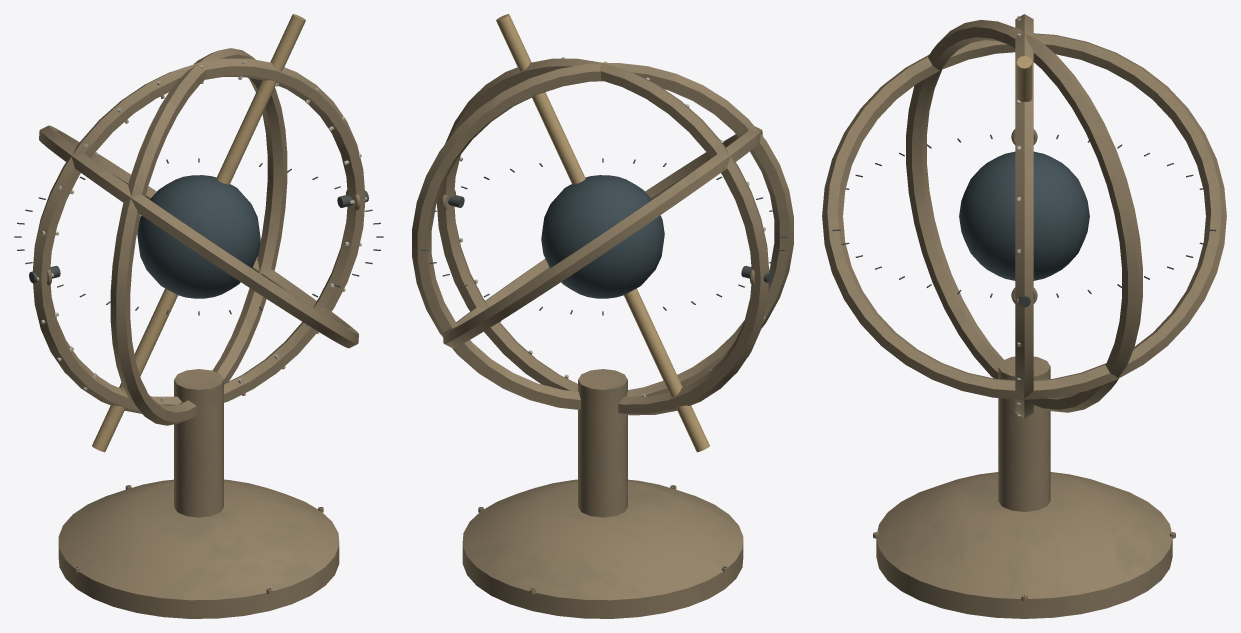
3 views of the same model, side by side, from view 1: azimuth 30°, elevation 25°; view 2: azimuth 150°, elevation 25°; view 3: azimuth 270°, elevation 25° (orthographic). The views are drawn at different scales.
Visible parts, largest first — view 1: 001_armillary_astrolabe; view 2: 001_armillary_astrolabe; view 3: 001_armillary_astrolabe.
Part boxes in pixels (x1,y1,x2,y2): 001_armillary_astrolabe: (14, 14, 383, 618); 001_armillary_astrolabe: (412, 14, 793, 618); 001_armillary_astrolabe: (822, 14, 1226, 618).
Size of the model in its own units: 0.466 by 0.6943 by 0.464.
6 materials, 5 textured.
